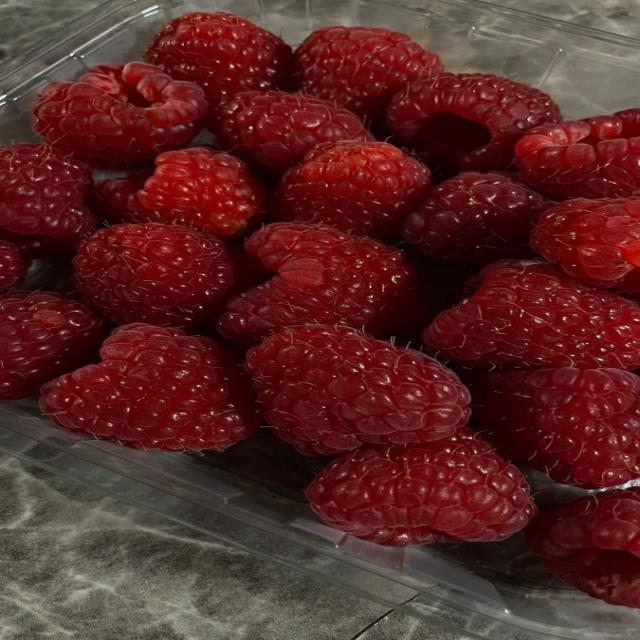raspberry: (245, 325, 470, 454), (40, 325, 259, 450), (307, 428, 536, 546), (423, 261, 639, 369), (220, 223, 415, 340), (474, 368, 639, 487), (33, 62, 207, 166), (388, 73, 560, 174), (74, 223, 233, 327), (271, 142, 429, 238), (96, 148, 264, 237), (146, 13, 291, 108), (294, 26, 442, 119), (528, 488, 639, 607), (404, 173, 549, 264), (210, 92, 373, 171), (515, 109, 639, 198), (0, 292, 103, 399), (0, 144, 97, 256), (531, 198, 639, 291), (0, 215, 97, 259), (89, 170, 153, 223), (0, 239, 29, 287)
